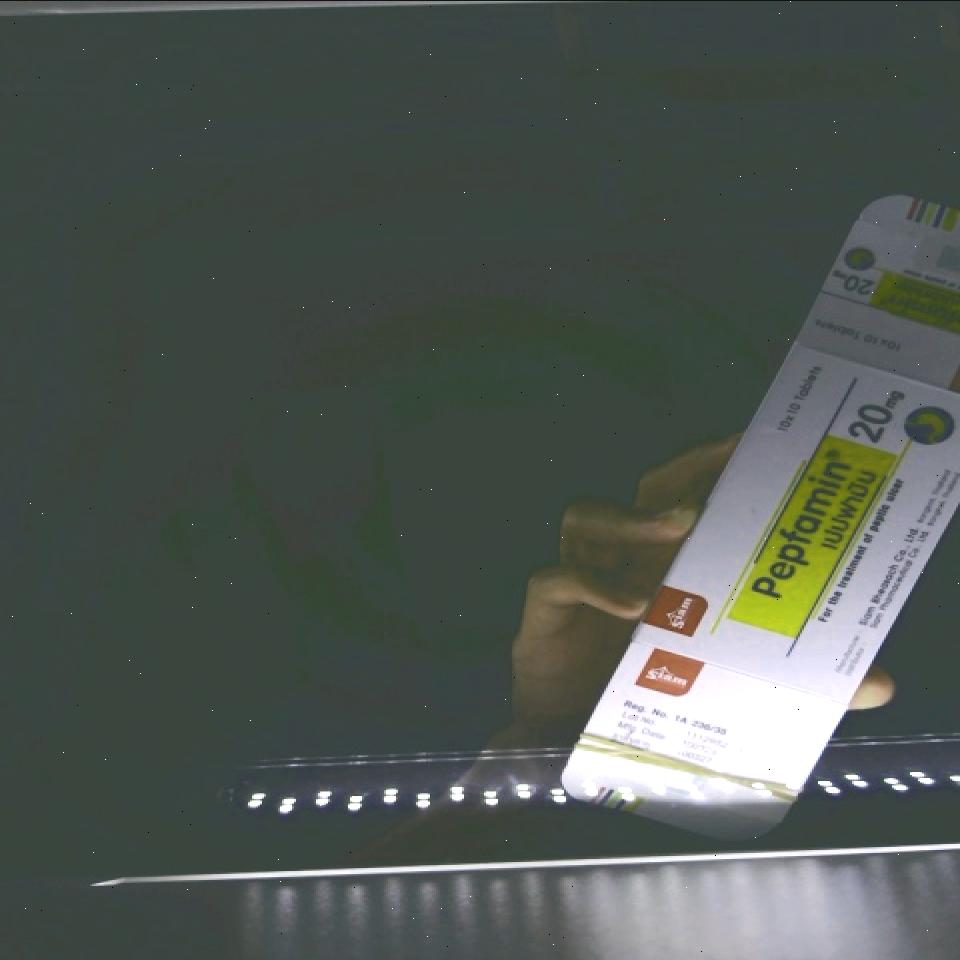medicine_box: (546, 171, 960, 880)
medicine_label_obb: (730, 418, 895, 644)
